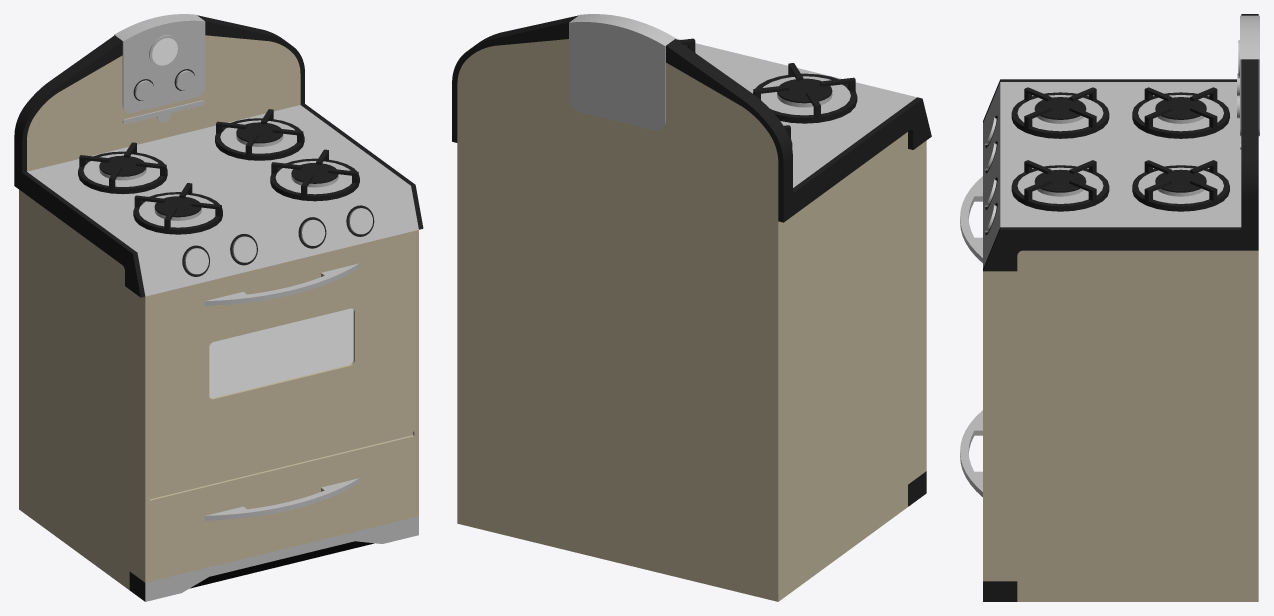
Rendered from Stove.fbx.
3 views of the same model, side by side, from view 1: azimuth 30°, elevation 25°; view 2: azimuth 150°, elevation 25°; view 3: azimuth 270°, elevation 25° (orthographic). The views are drawn at different scales.
Parts seen in each view (by area): view 1: Layer0_001; view 2: Layer0_001; view 3: Layer0_001.
Part boxes in pixels (left/top/right/bottom): Layer0_001: left=14, top=14, right=423, bottom=601; Layer0_001: left=452, top=14, right=931, bottom=601; Layer0_001: left=960, top=14, right=1259, bottom=601.
Bounding box in the file's own units: 787 × 1219 × 664.
